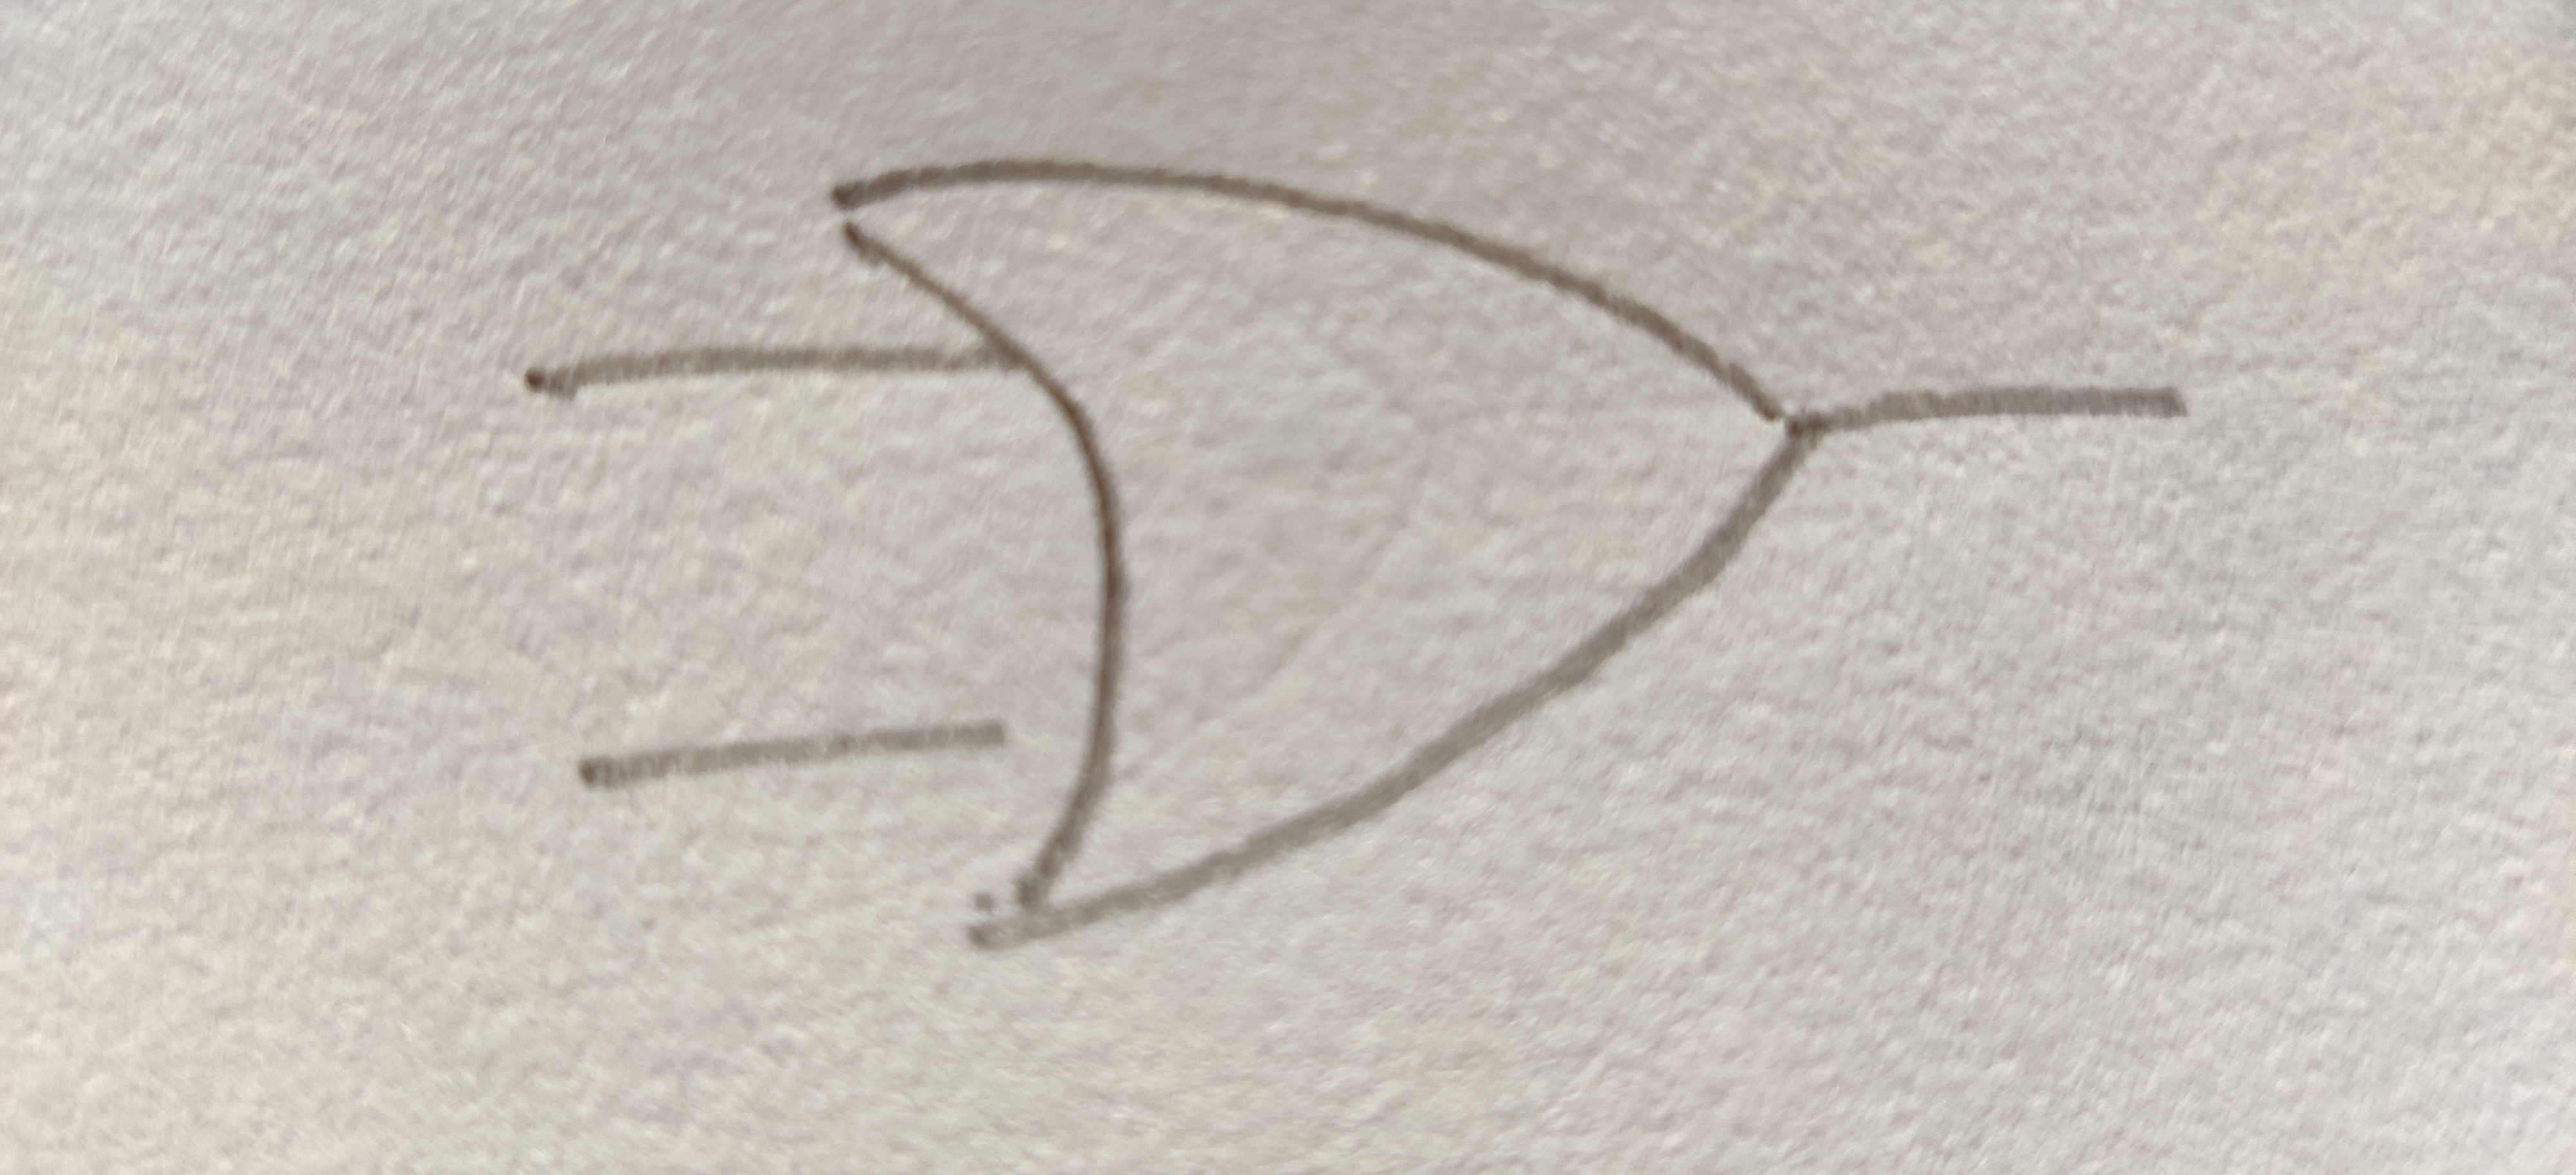or: (841, 164, 1814, 950)
